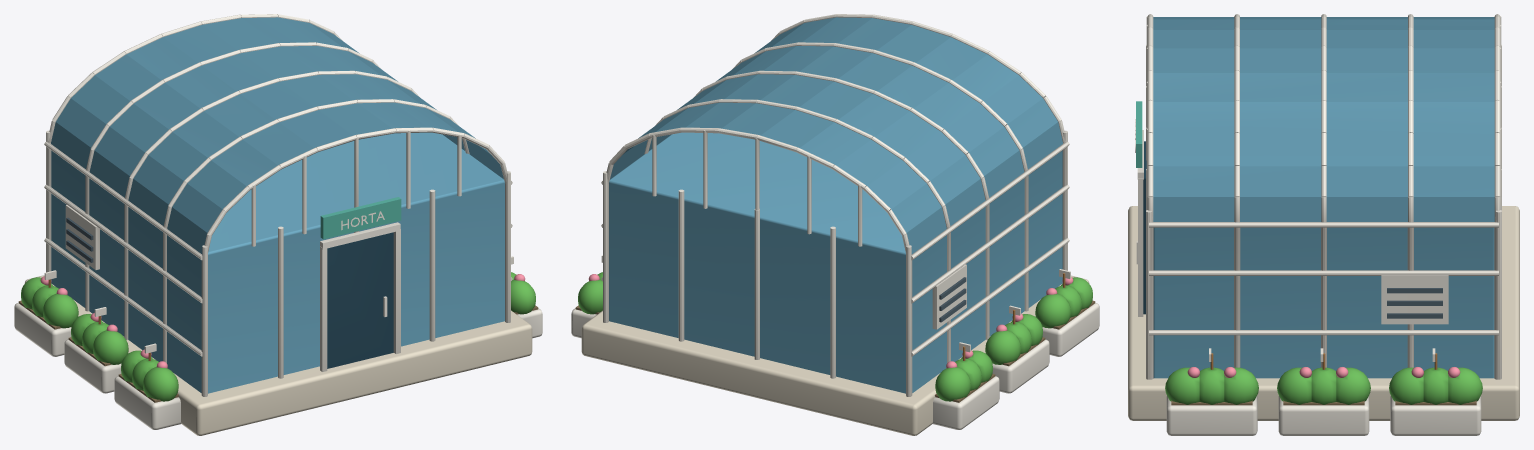
Rendered from greenhouse.glb.
The picture shows the model from 3 angles, left to right: view 1: azimuth 30°, elevation 25°; view 2: azimuth 150°, elevation 25°; view 3: azimuth 270°, elevation 25°; orthographic projection. The views are drawn at different scales.
Parts seen in each view (by area): view 1: glasshouse, roof rib, greenhouse foundation, greenhouse door, plant, botanical name board, vent slat; view 2: glasshouse, roof rib, greenhouse foundation, plant, vent slat; view 3: glasshouse, roof rib, greenhouse foundation, plant, vent slat, soil, flower, greenhouse door, botanical name board.
Part boxes in pixels (x1,y1,x2,y2): glasshouse: (51, 17, 504, 393); roof rib: (14, 14, 542, 429); greenhouse foundation: (24, 275, 532, 435); greenhouse door: (327, 232, 393, 368); plant: (21, 272, 535, 401); botanical name board: (320, 197, 401, 239); vent slat: (66, 217, 93, 262); glasshouse: (609, 17, 1062, 393); roof rib: (571, 14, 1099, 429); greenhouse foundation: (581, 275, 1089, 435); plant: (578, 272, 1092, 401); vent slat: (939, 277, 966, 322); glasshouse: (1153, 17, 1494, 378); roof rib: (1135, 14, 1501, 435); greenhouse foundation: (1128, 206, 1519, 420); plant: (1165, 367, 1482, 404); vent slat: (1387, 288, 1442, 318); soil: (1171, 400, 1476, 405); flower: (1187, 367, 1460, 377); greenhouse door: (1143, 141, 1146, 314); botanical name board: (1136, 101, 1142, 167).
Size of the model in its own units: 3.61 by 2.25 by 2.8.
